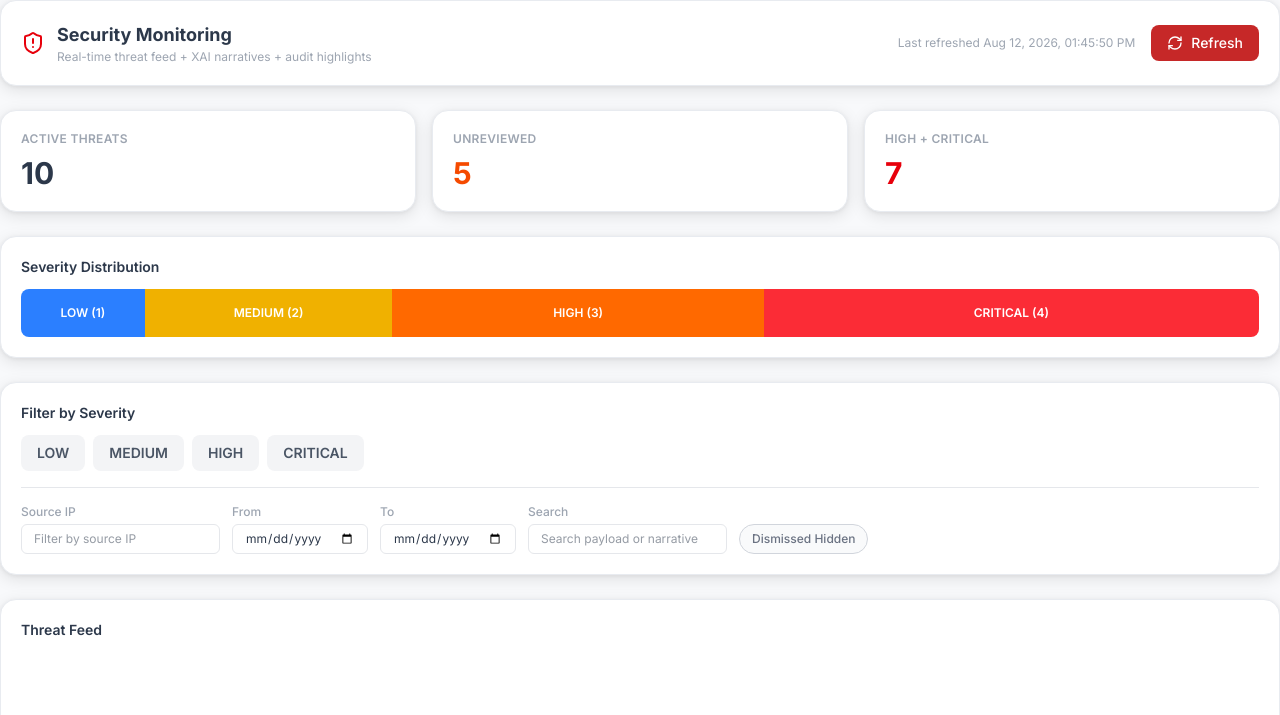
Scenario: M8: Security Monitoring page › clicking toggle pill switches to "Include Dismissed" and re-fetches with show_dismissed=true
# Click the toggle
Click the button with test id "show-dismissed-toggle": point(804, 539) top-left (739, 524), bottom-right (868, 554)
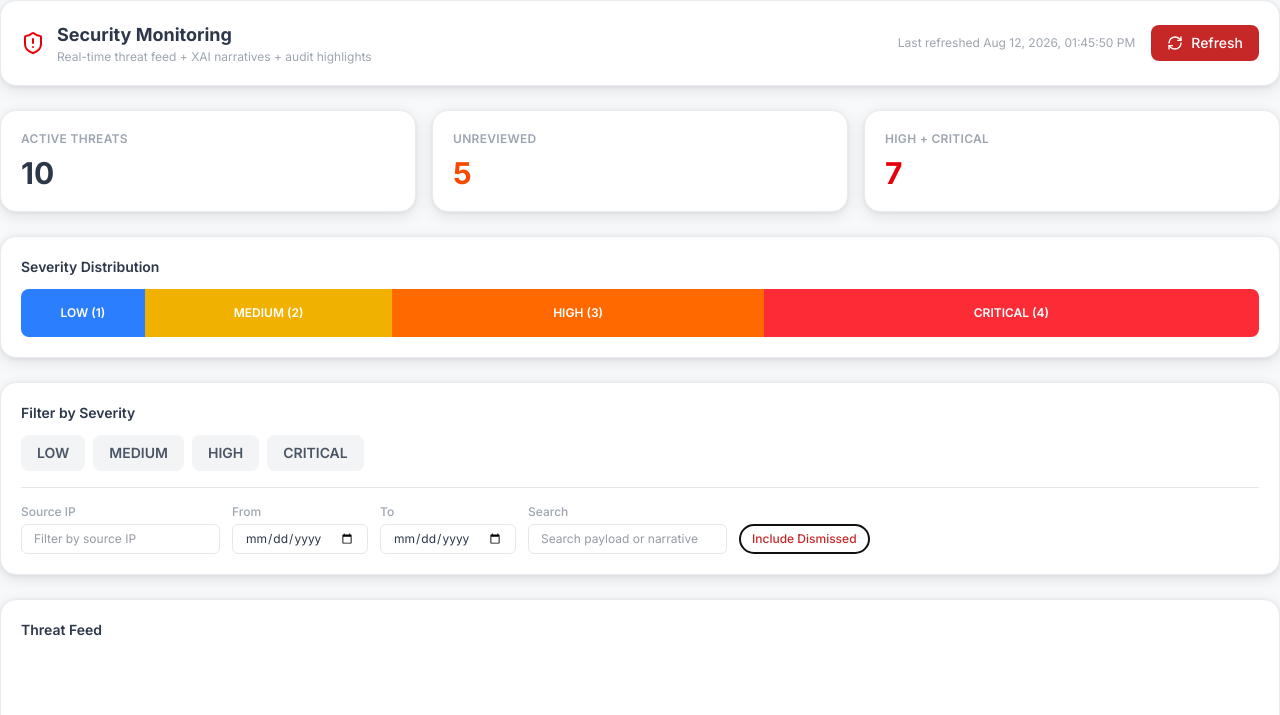
Now the button with test id "show-dismissed-toggle" reads "Include Dismissed", box top-left (739, 524), bottom-right (870, 554)
